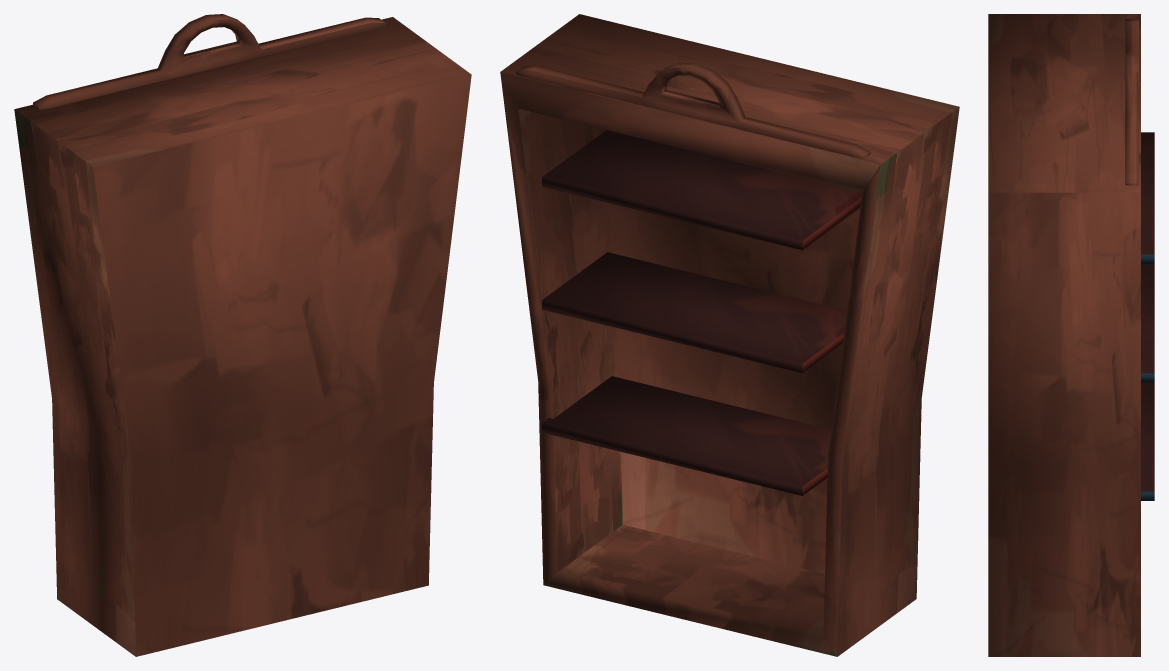
The model's file is Estante.fbx.
3 views of the same model, side by side, from view 1: azimuth 30°, elevation 25°; view 2: azimuth 150°, elevation 25°; view 3: azimuth 270°, elevation 25° (orthographic). The views are drawn at different scales.
Visible parts, largest first — view 1: Estante; view 2: Estante; view 3: Estante.
Part boxes in pixels (x1,y1,x2,y2): Estante: (14,14,471,656); Estante: (500,14,959,656); Estante: (988,14,1154,656).
Bounding box in the file's own units: 215 × 84.62 × 299.
